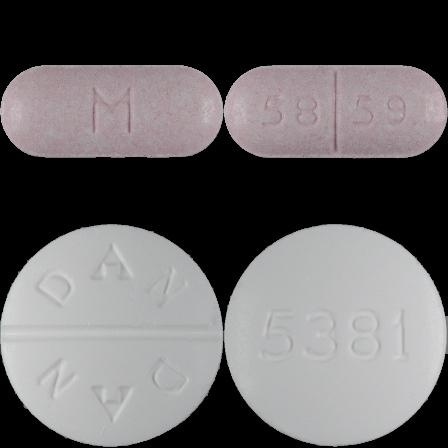42549-650: (0, 0, 224, 224)
